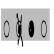correct: (28, 19, 34, 38)
not correct: (16, 12, 23, 47)
